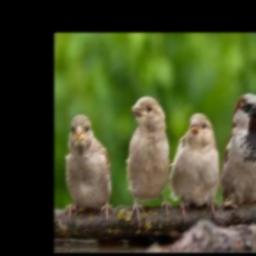Sparrow: (127, 96, 172, 225), (65, 114, 113, 224), (170, 113, 220, 215), (221, 92, 256, 216)
